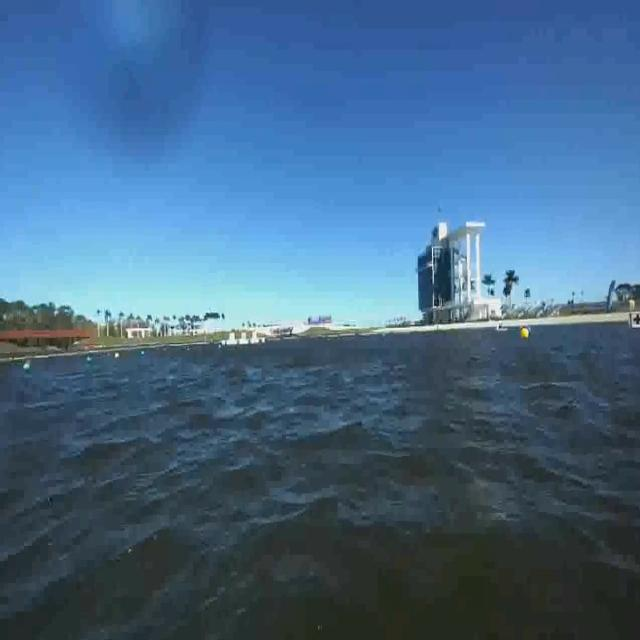yellow-buoy: (520, 324, 530, 340)
